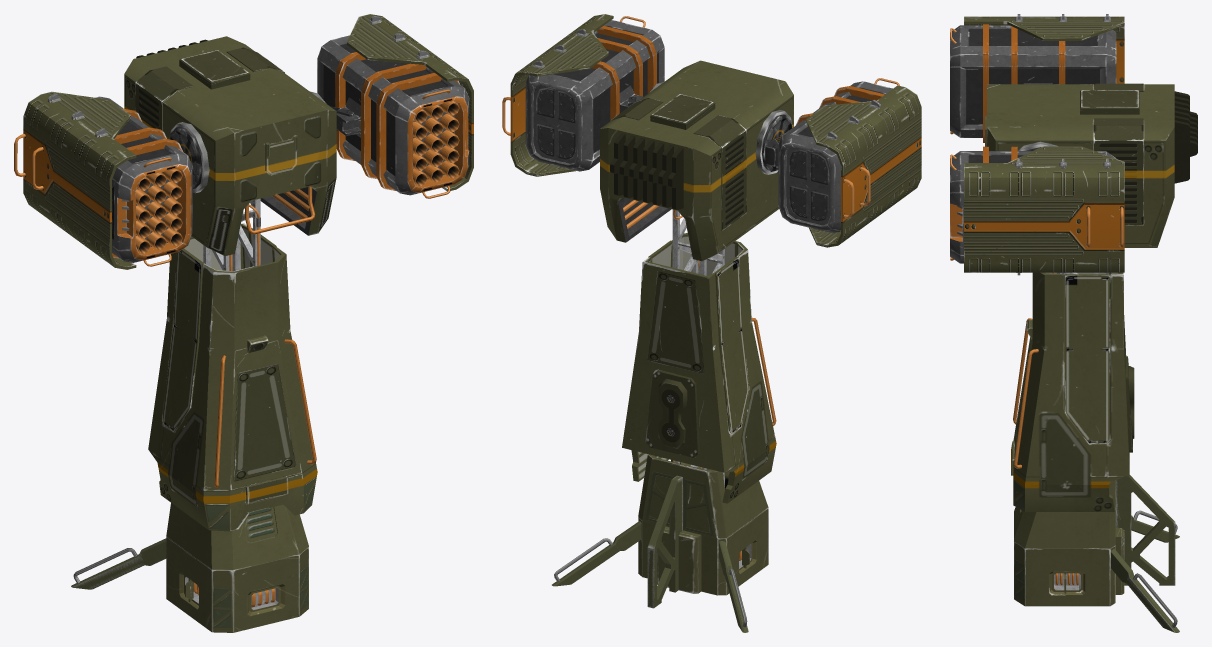
Rendered from turret_tower_09.fbx.
3 views of the same model, side by side, from view 1: azimuth 30°, elevation 25°; view 2: azimuth 150°, elevation 25°; view 3: azimuth 270°, elevation 25° (orthographic). The views are drawn at different scales.
Parts seen in each view (by area): view 1: body (×3), head, cover (×2), tower_base, barrels (×2), tower_body_door_right, tower_head_door_right, decor3, tower_leg, body_frame, decor2 (×2), tower_head_door_center (+4 smaller); view 2: body (×3), head, cover (×2), tower_base, decor3, tower_leg, tower_body_door_right, tower_body_door_rear, tower_head_door_right, body_frame, holder, decor2; view 3: body (×3), cover (×2), head, tower_base, tower_body_door_left, tower_leg, tower_head_door_left, decor3, tower_body_door_rear, tower_head_door_right.
Boxes of the visible parts, box(x1,y1,x2,y2) form: body (×3): box(95, 35, 469, 531); head: box(124, 36, 336, 255); cover (×2): box(14, 14, 473, 269); tower_base: box(166, 503, 308, 632); barrels (×2): box(136, 101, 459, 253); tower_body_door_right: box(162, 248, 204, 431); tower_head_door_right: box(135, 66, 193, 130); decor3: box(136, 39, 250, 89); tower_leg: box(71, 538, 166, 589); body_frame: box(203, 198, 260, 271); decor2 (×2): box(169, 91, 360, 193); tower_head_door_center: box(265, 136, 297, 175); body (×3): box(525, 16, 899, 503); head: box(600, 60, 793, 261); cover (×2): box(502, 14, 921, 247); tower_base: box(638, 454, 768, 595); decor3: box(610, 94, 715, 209); tower_leg: box(552, 475, 748, 632); tower_body_door_right: box(714, 256, 749, 433); tower_body_door_rear: box(645, 370, 699, 457); tower_head_door_right: box(693, 115, 746, 230); body_frame: box(672, 209, 724, 486); holder: box(761, 114, 792, 171); decor2: box(650, 82, 792, 174); body (×3): box(950, 24, 1129, 511); cover (×2): box(964, 14, 1124, 275); head: box(987, 84, 1174, 247); tower_base: box(1014, 480, 1124, 606); tower_body_door_left: box(1065, 274, 1110, 443); tower_leg: box(1111, 475, 1179, 632); tower_head_door_left: box(1093, 118, 1143, 225); decor3: box(1080, 90, 1197, 183); tower_body_door_rear: box(1125, 356, 1134, 452); tower_head_door_right: box(1093, 83, 1143, 91).
Size of the model in its own units: 12.37 by 16.35 by 7.39.
